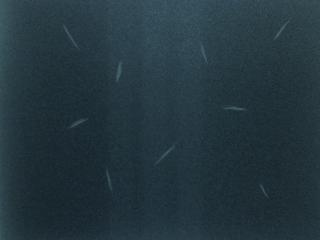scratch: (149, 137, 183, 172), (60, 108, 96, 137), (267, 12, 294, 50), (216, 97, 253, 121), (98, 162, 122, 199), (59, 20, 83, 55), (191, 37, 218, 68), (250, 176, 278, 204), (109, 53, 129, 90)
